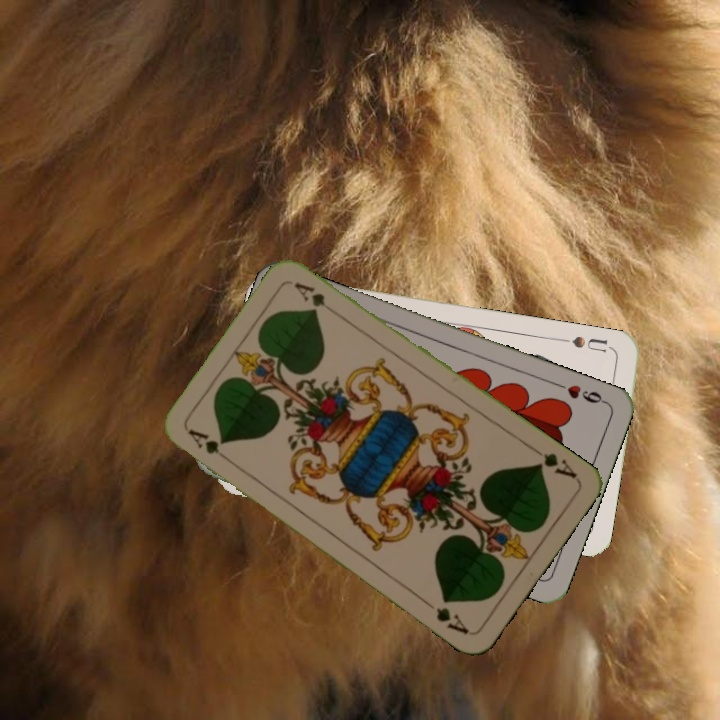GA: (183, 425, 235, 466), (527, 442, 580, 481)
H9: (552, 379, 609, 407)
SU: (557, 332, 616, 355)
